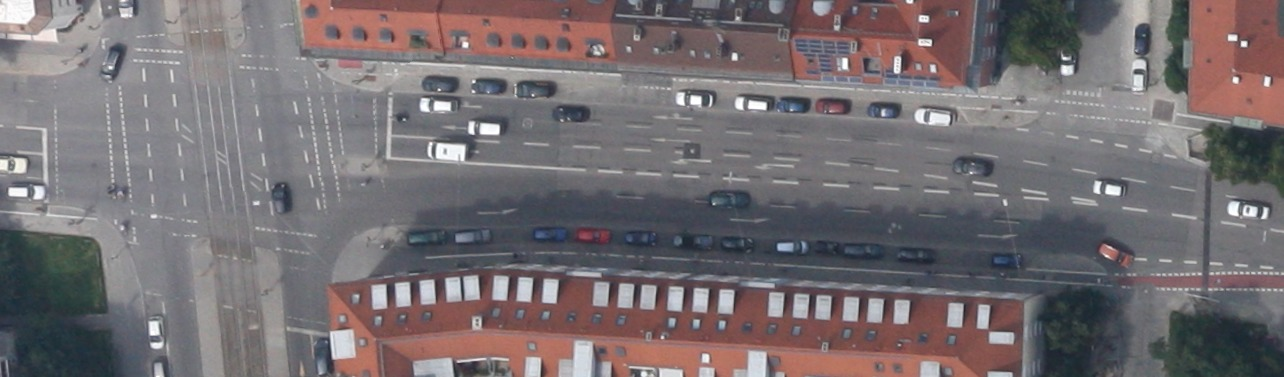car: (1225, 198, 1271, 221), (1097, 241, 1133, 269), (96, 46, 123, 83), (951, 155, 993, 176), (912, 107, 954, 125), (513, 80, 555, 97), (708, 190, 749, 207), (420, 75, 459, 92), (896, 246, 935, 263), (1091, 178, 1125, 197), (406, 229, 446, 245), (672, 233, 712, 249), (315, 339, 333, 374), (6, 184, 45, 200), (674, 91, 712, 107), (552, 105, 589, 121), (271, 182, 290, 213), (419, 97, 458, 112), (866, 100, 900, 117), (775, 238, 809, 255), (470, 77, 502, 95), (466, 119, 502, 135), (1059, 39, 1075, 75), (454, 228, 490, 244), (721, 235, 753, 253), (991, 251, 1022, 269), (624, 229, 658, 245), (733, 96, 771, 110), (843, 243, 881, 257), (1131, 58, 1147, 91), (777, 96, 809, 112), (148, 315, 163, 349), (816, 98, 850, 113), (1133, 23, 1149, 54), (577, 228, 610, 243), (534, 227, 566, 241), (815, 239, 839, 255)
